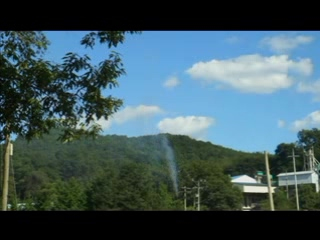smoke: (148, 134, 182, 198)
